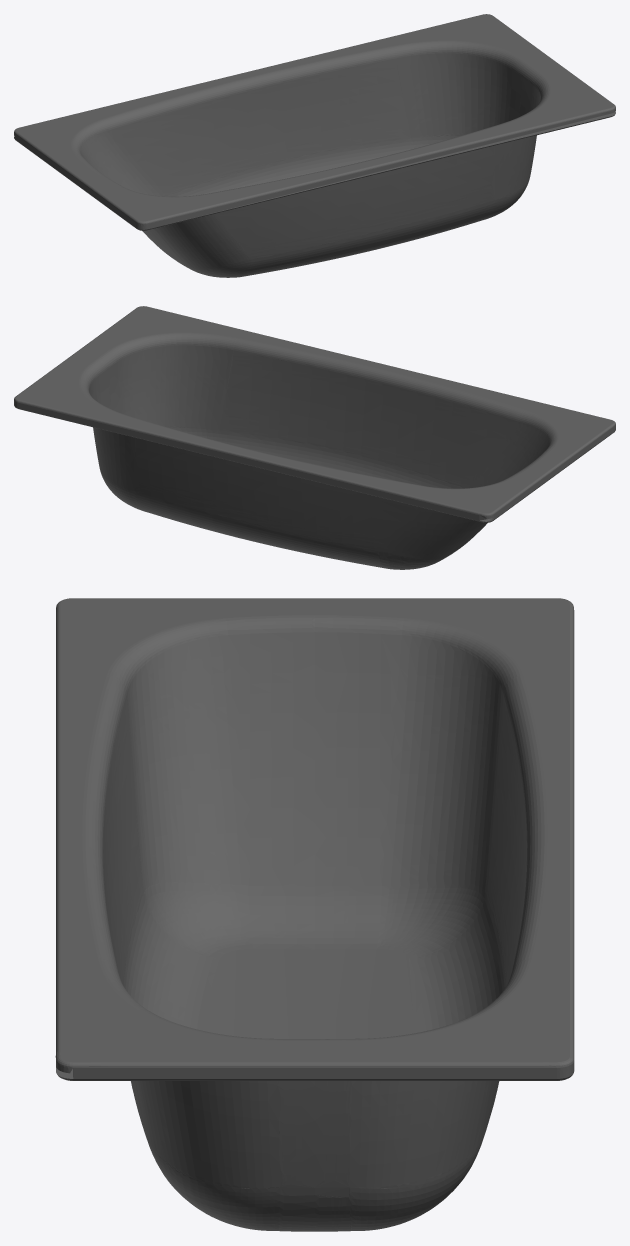
The model's file is AEC_48665.glb.
3 views of the same model, one above another, from view 1: azimuth 30°, elevation 25°; view 2: azimuth 150°, elevation 25°; view 3: azimuth 270°, elevation 25° (orthographic). The views are drawn at different scales.
Visible parts, largest first — view 1: 0; view 2: 0; view 3: 0.
Boxes of the visible parts, left/top/right/bottom form: 0: left=14, top=14, right=615, bottom=277; 0: left=14, top=306, right=615, bottom=569; 0: left=55, top=598, right=574, bottom=1231.
Bounding box in the file's own units: 1.6 × 0.3815 × 0.7501.
1 material, 1 textured.
